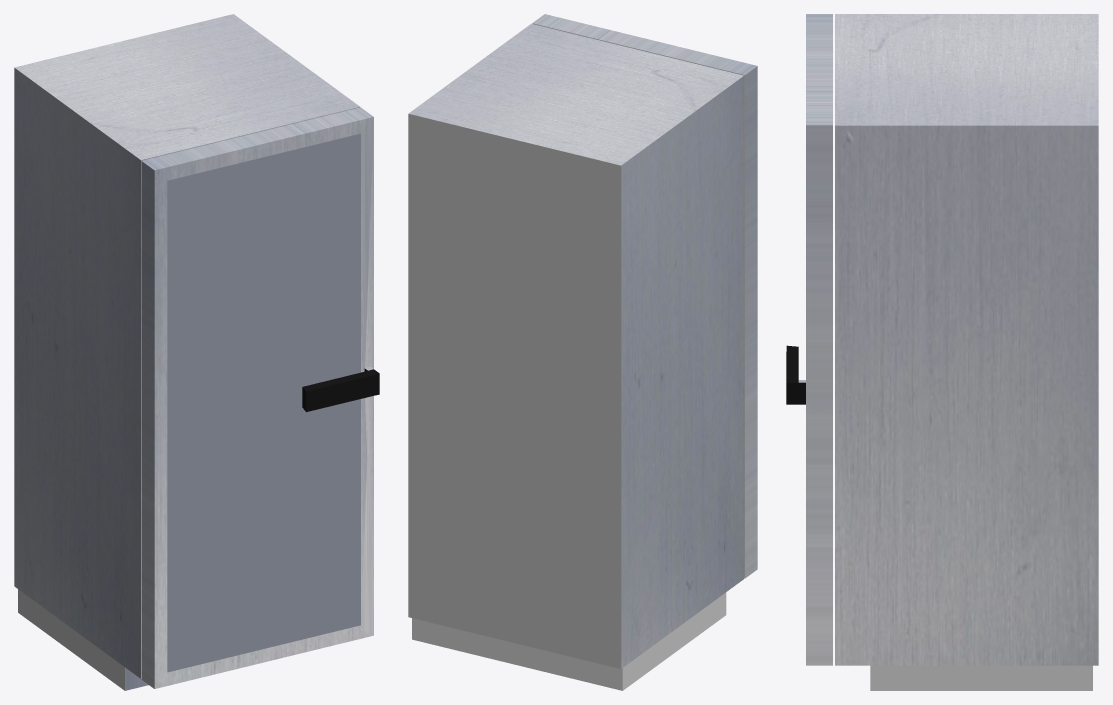
Rendered from fridge.fbx.
3 renders of one model, left to right at view 1: azimuth 30°, elevation 25°; view 2: azimuth 150°, elevation 25°; view 3: azimuth 270°, elevation 25°, orthographic. The views are drawn at different scales.
Parts seen in each view (by area): view 1: FridgeDoor, fridgeBody; view 2: fridgeBody, FridgeDoor; view 3: fridgeBody, FridgeDoor.
Part boxes in pixels (bbox=[...]): FridgeDoor: bbox=[141, 107, 379, 688]; fridgeBody: bbox=[14, 14, 360, 690]; fridgeBody: bbox=[408, 23, 743, 690]; FridgeDoor: bbox=[532, 14, 757, 578]; fridgeBody: bbox=[835, 14, 1098, 690]; FridgeDoor: bbox=[786, 14, 832, 665].
Bounding box in the file's own units: 200 × 474 × 237.
Materials: 4 (1 with a texture image).
